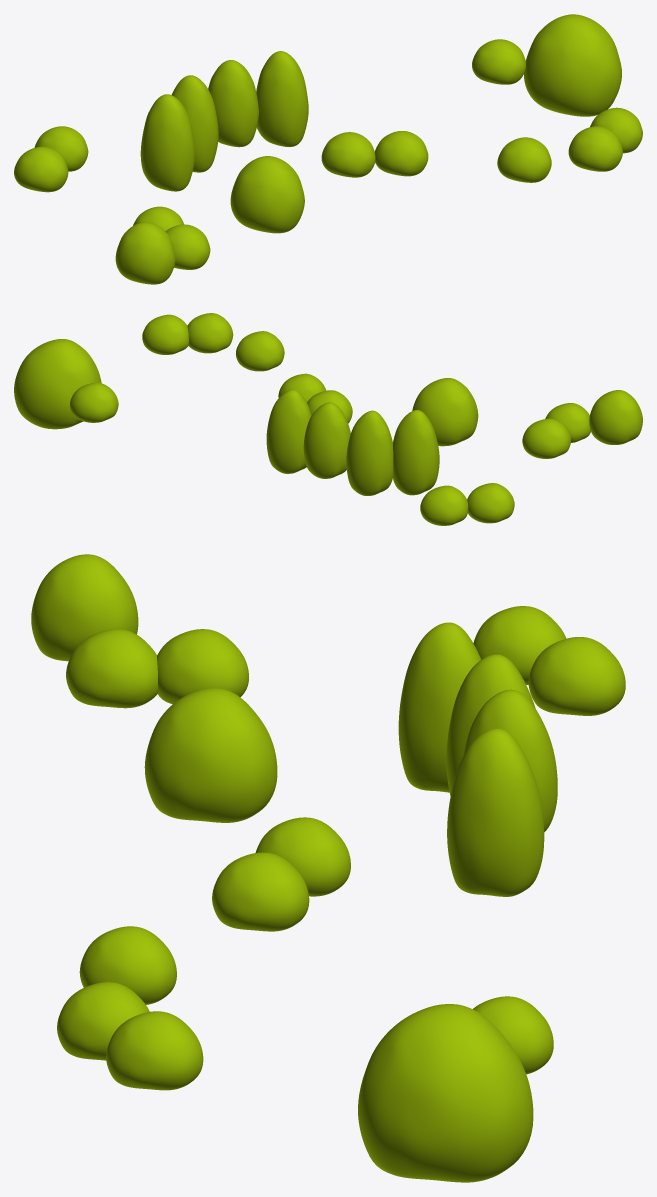
Rendered from bushes_old.fbx.
3 views of the same model, one above another, from view 1: azimuth 30°, elevation 25°; view 2: azimuth 150°, elevation 25°; view 3: azimuth 270°, elevation 25° (orthographic). The views are drawn at different scales.
Visible parts, largest first — view 1: polySurface43; view 2: polySurface43; view 3: polySurface43.
Part boxes in pixels (<box>): polySurface43: <box>14,14,642,284</box>; polySurface43: <box>14,313,642,525</box>; polySurface43: <box>31,554,625,1182</box>.
Size of the model in its own units: 16.46 by 2.91 by 8.04.
